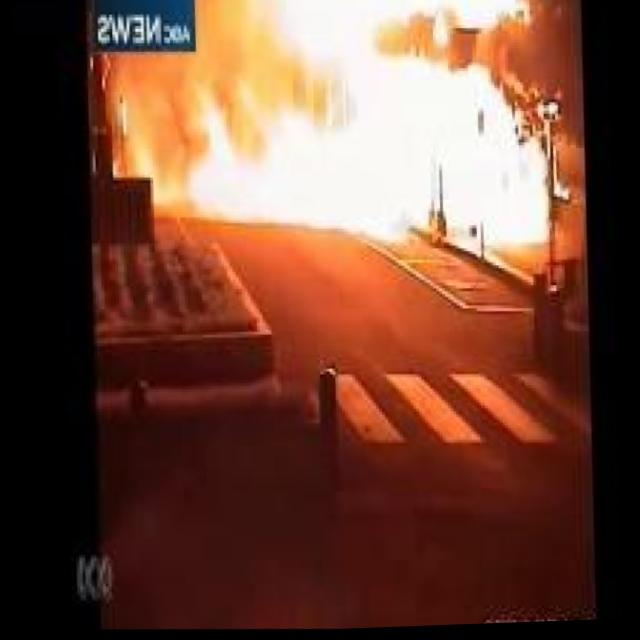fire: (159, 0, 570, 274)
